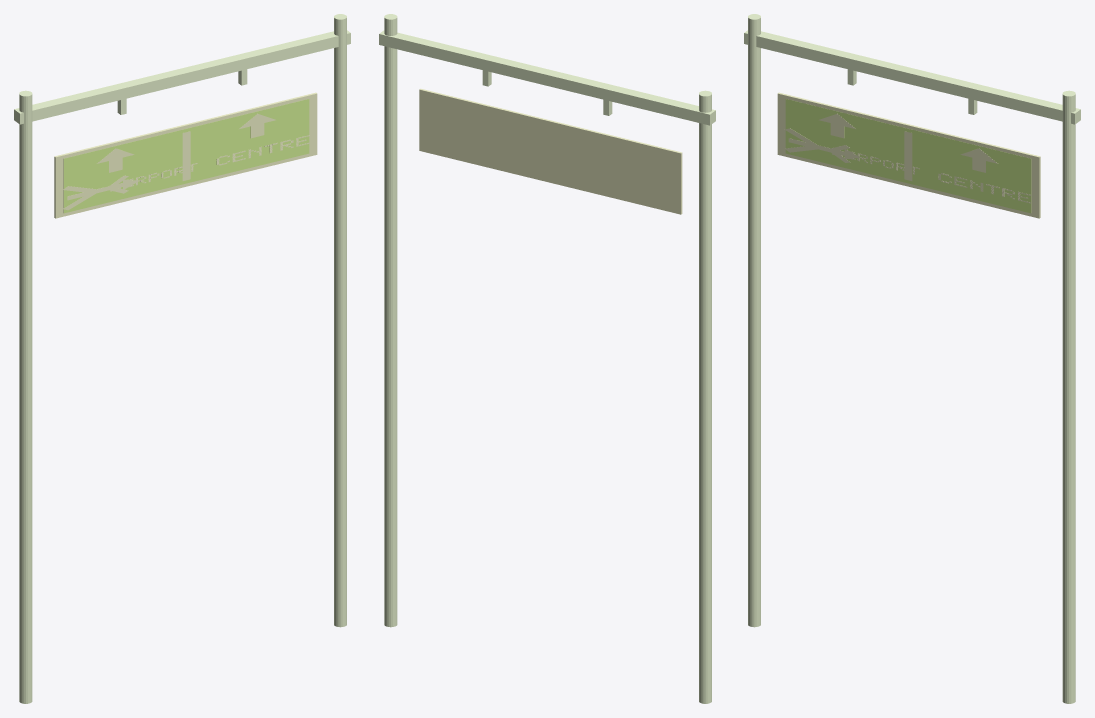
File: sign_overhead_airport_centre_split.glb
3 renders of one model, left to right at view 1: azimuth 30°, elevation 25°; view 2: azimuth 150°, elevation 25°; view 3: azimuth 330°, elevation 25°, orthographic.
Parts seen in each view (by area): view 1: layer_1_00, pole_left, pole_right, crossbar, plate_base_00; view 2: plate_base_00, pole_right, pole_left, crossbar; view 3: layer_1_00, pole_right, pole_left, crossbar, plate_base_00.
Part boxes in pixels (<box>): layer_1_00: <box>63,99,309,213</box>; pole_left: <box>19,90,32,703</box>; pole_right: <box>334,14,346,627</box>; crossbar: <box>14,30,350,124</box>; plate_base_00: <box>54,92,317,218</box>; plate_base_00: <box>419,88,682,214</box>; pole_right: <box>384,14,397,627</box>; pole_left: <box>699,90,711,703</box>; crossbar: <box>379,30,715,125</box>; layer_1_00: <box>785,99,1031,213</box>; pole_right: <box>1062,90,1075,703</box>; pole_left: <box>748,14,760,627</box>; crossbar: <box>744,30,1080,124</box>; plate_base_00: <box>777,92,1040,218</box>.
Size of the model in its own units: 2.85 by 5 by 0.108.
